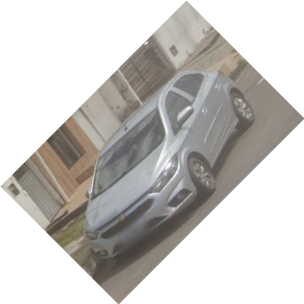car: (85, 68, 257, 260)
